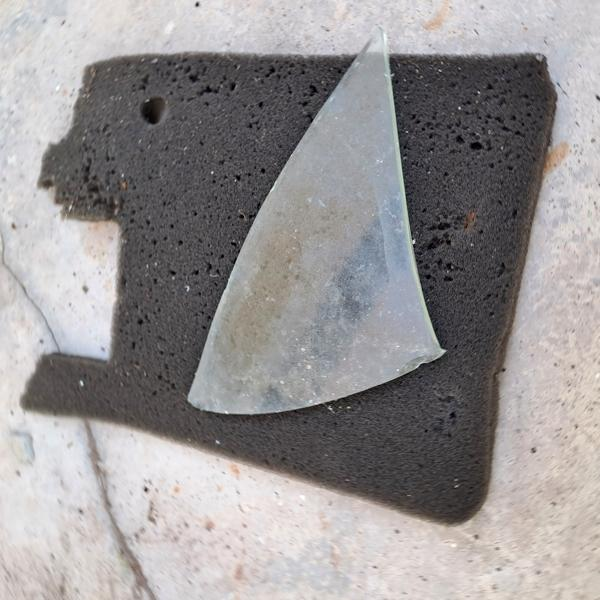Anorganik: (181, 16, 471, 429)
